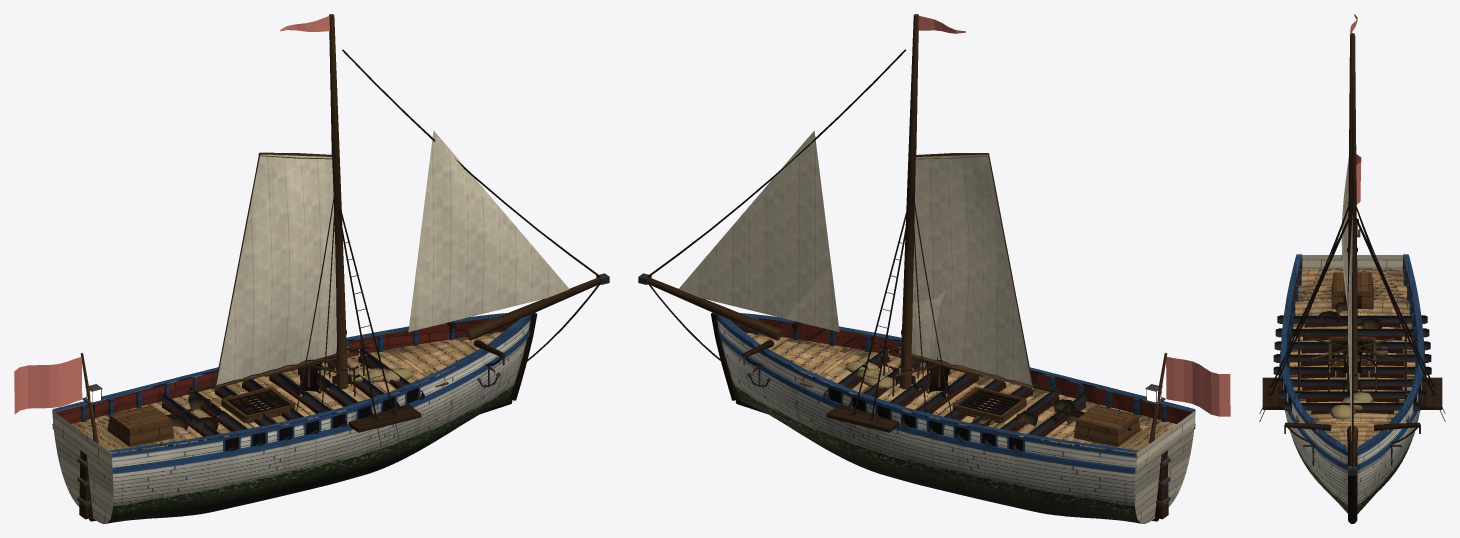
File: yacht.glb
3 views of the same model, side by side, from view 1: azimuth 30°, elevation 25°; view 2: azimuth 150°, elevation 25°; view 3: azimuth 270°, elevation 25° (orthographic). The views are drawn at different scales.
Visible parts, largest first — view 1: LOD0_Body, LOD0_Wood, LOD0_m0_AftSail, LOD0_Jib, LOD2_Wood, LOD2_Body, LOD0_Flag, LOD1_Wood, LOD1_Jib, LOD1_m0_AftSail, LOD1_Body, LOD2_m0_AftSail (+1 smaller); view 2: LOD0_Body, LOD0_Wood, LOD2_m0_AftSail, LOD2_Jib, LOD2_Wood, LOD2_Body, LOD0_Flag, LOD1_Wood, LOD1_Body, LOD1_m0_AftSail, LOD1_Jib, LOD0_m0_AftSail (+1 smaller); view 3: LOD0_Wood, LOD0_Body, LOD2_Body, LOD2_Wood, LOD1_Wood, LOD0_m0_AftSail, LOD0_Jib, LOD1_Body, LOD0_Flag.
Boxes of the visible parts, box(x1,y1,x2,y2) form: LOD0_Body: box(52, 316, 531, 523); LOD0_Wood: box(52, 14, 609, 523); LOD0_m0_AftSail: box(216, 154, 336, 385); LOD0_Jib: box(408, 131, 546, 331); LOD2_Wood: box(55, 18, 597, 521); LOD2_Body: box(52, 316, 530, 521); LOD0_Flag: box(14, 16, 329, 414); LOD1_Wood: box(53, 14, 599, 523); LOD1_Jib: box(409, 133, 569, 331); LOD1_m0_AftSail: box(221, 155, 336, 378); LOD1_Body: box(111, 316, 530, 522); LOD2_m0_AftSail: box(219, 154, 336, 371); LOD0_Body: box(716, 239, 1195, 523); LOD0_Wood: box(638, 14, 1195, 523); LOD2_m0_AftSail: box(913, 154, 1021, 378); LOD2_Jib: box(678, 130, 838, 330); LOD2_Wood: box(649, 39, 1192, 521); LOD2_Body: box(717, 316, 1195, 521); LOD0_Flag: box(918, 16, 1230, 416); LOD1_Wood: box(648, 14, 1193, 523); LOD1_Body: box(717, 316, 1139, 522); LOD1_m0_AftSail: box(912, 154, 1028, 382); LOD1_Jib: box(719, 150, 838, 331); LOD0_m0_AftSail: box(911, 154, 1031, 385); LOD0_Wood: box(1262, 33, 1442, 523); LOD0_Body: box(1259, 219, 1445, 513); LOD2_Body: box(1283, 268, 1422, 513); LOD2_Wood: box(1280, 35, 1424, 521); LOD1_Wood: box(1281, 35, 1424, 522); LOD0_m0_AftSail: box(1341, 159, 1348, 305); LOD0_Jib: box(1348, 215, 1352, 390); LOD1_Body: box(1280, 296, 1423, 513); LOD0_Flag: box(1350, 14, 1361, 204).
Bounding box in the file's own units: 19.7 × 14.6 × 5.7.
Materials: 5 (3 with a texture image).
